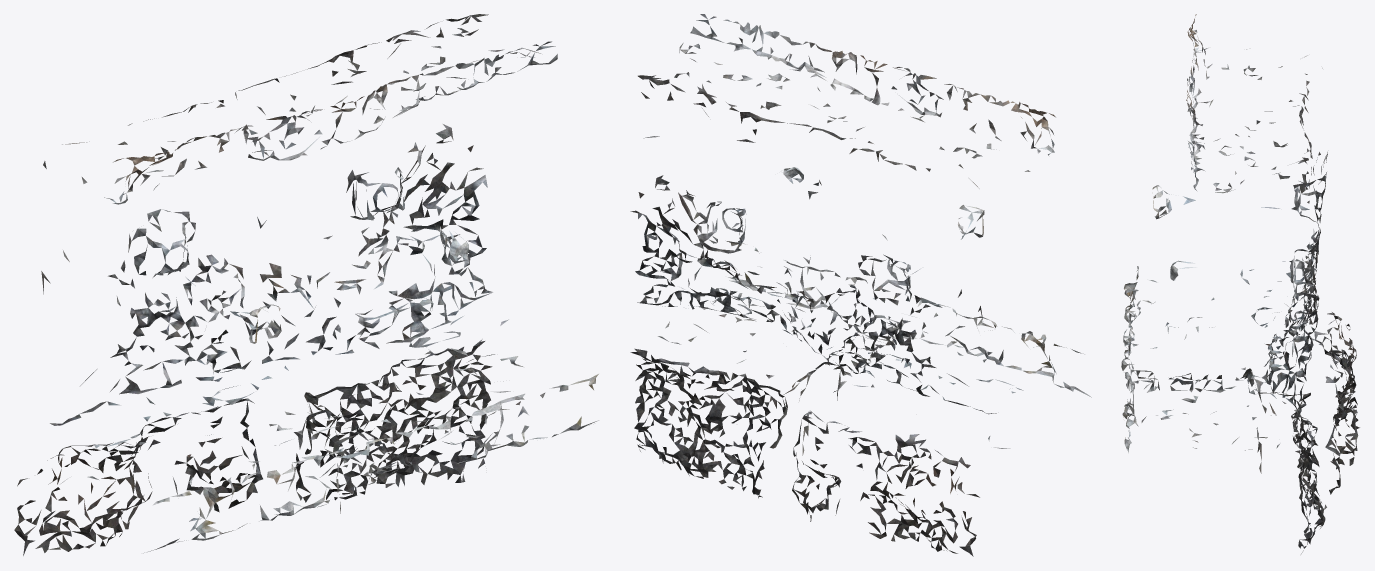
The picture shows the model from 3 angles, left to right: view 1: azimuth 30°, elevation 25°; view 2: azimuth 150°, elevation 25°; view 3: azimuth 270°, elevation 25°; orthographic projection. The views are drawn at different scales.
Bounding box in the file's own units: 6.84 × 7.05 × 3.92.
Materials: 1 (1 with a texture image).
